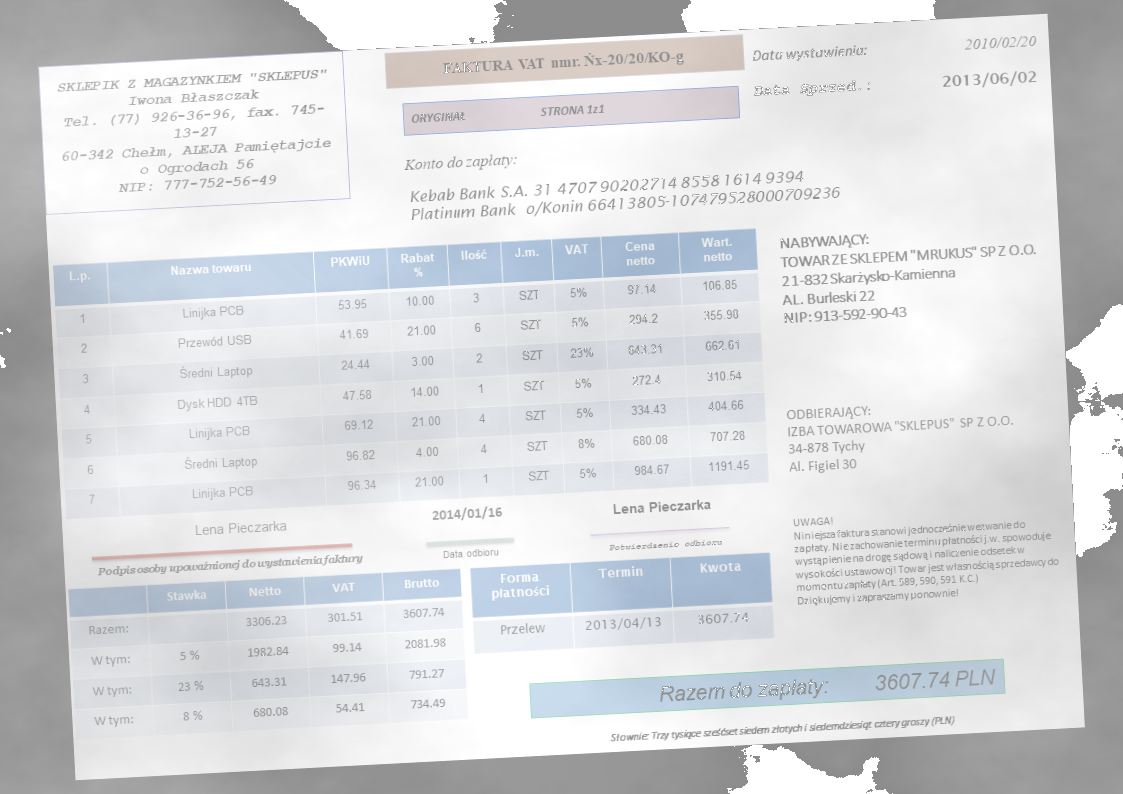Table: (50, 226, 771, 520), (66, 567, 469, 742), (469, 552, 777, 655)
TextBox: (54, 62, 336, 199), (789, 502, 1061, 610), (776, 222, 1043, 329), (408, 164, 844, 224), (783, 394, 1017, 476), (654, 665, 999, 707), (608, 711, 955, 746), (440, 45, 687, 80), (95, 550, 366, 581), (408, 100, 608, 127), (402, 150, 519, 176), (753, 76, 873, 101), (750, 41, 869, 64), (609, 495, 712, 518), (940, 67, 1038, 90), (607, 535, 723, 553), (192, 517, 289, 538), (962, 32, 1038, 52), (429, 504, 505, 524), (441, 544, 501, 562)
